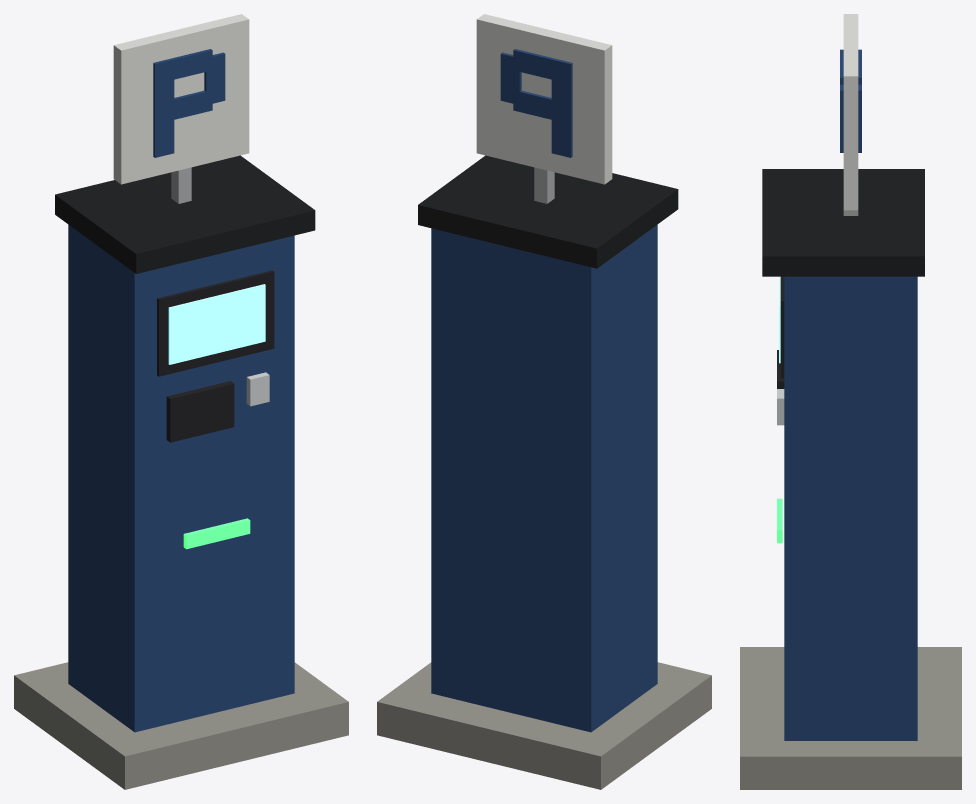
The model's file is pay_station.glb.
3 renders of one model, left to right at view 1: azimuth 30°, elevation 25°; view 2: azimuth 150°, elevation 25°; view 3: azimuth 270°, elevation 25°, orthographic.
Parts seen in each view (by area): view 1: pay_station; view 2: pay_station; view 3: pay_station.
Part boxes in pixels (x1=…): pay_station: x1=14, y1=14, x2=348, y2=789; pay_station: x1=377, y1=14, x2=711, y2=789; pay_station: x1=740, y1=14, x2=961, y2=789.
Bounding box in the file's own units: 0.7 × 2.06 × 0.6.
Materials: 1 (1 with a texture image).
